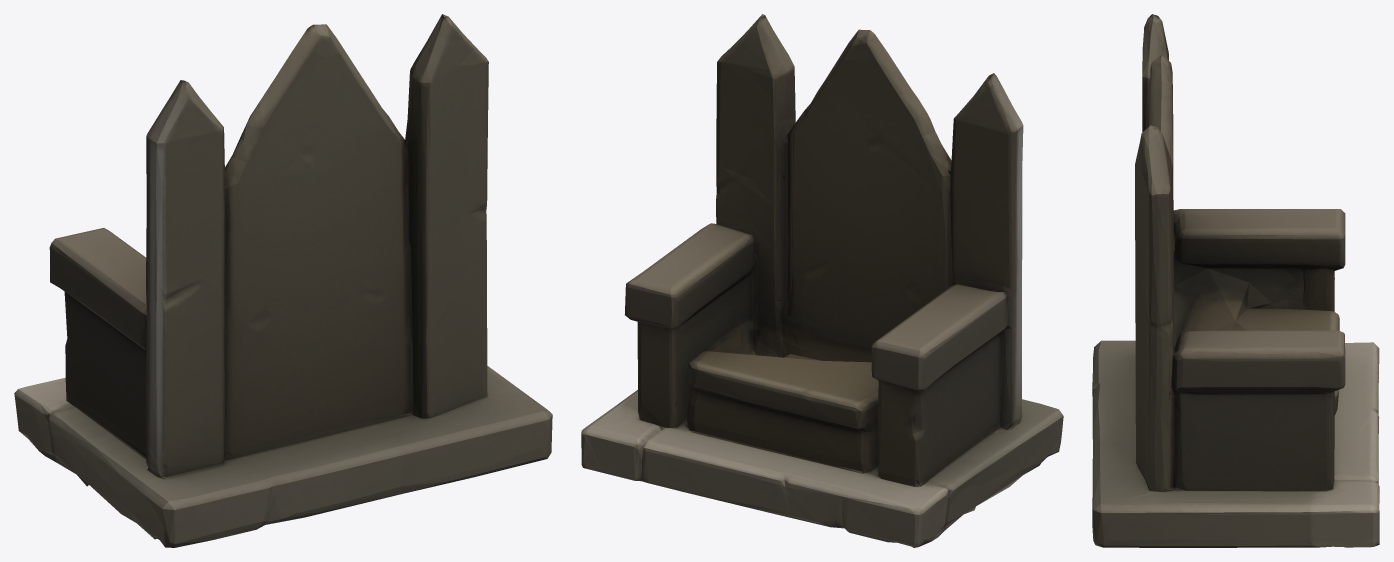
3 views of the same model, side by side, from view 1: azimuth 30°, elevation 25°; view 2: azimuth 150°, elevation 25°; view 3: azimuth 270°, elevation 25° (orthographic). The views are drawn at different scales.
Parts seen in each view (by area): view 1: geometry_0.067_Baked; view 2: geometry_0.067_Baked; view 3: geometry_0.067_Baked.
Boxes of the visible parts, x1,y1,x2,y2 form: geometry_0.067_Baked: (14, 14, 552, 547); geometry_0.067_Baked: (581, 14, 1063, 547); geometry_0.067_Baked: (1092, 14, 1379, 547).
Size of the model in its own units: 35.52 by 39.98 by 25.47.
